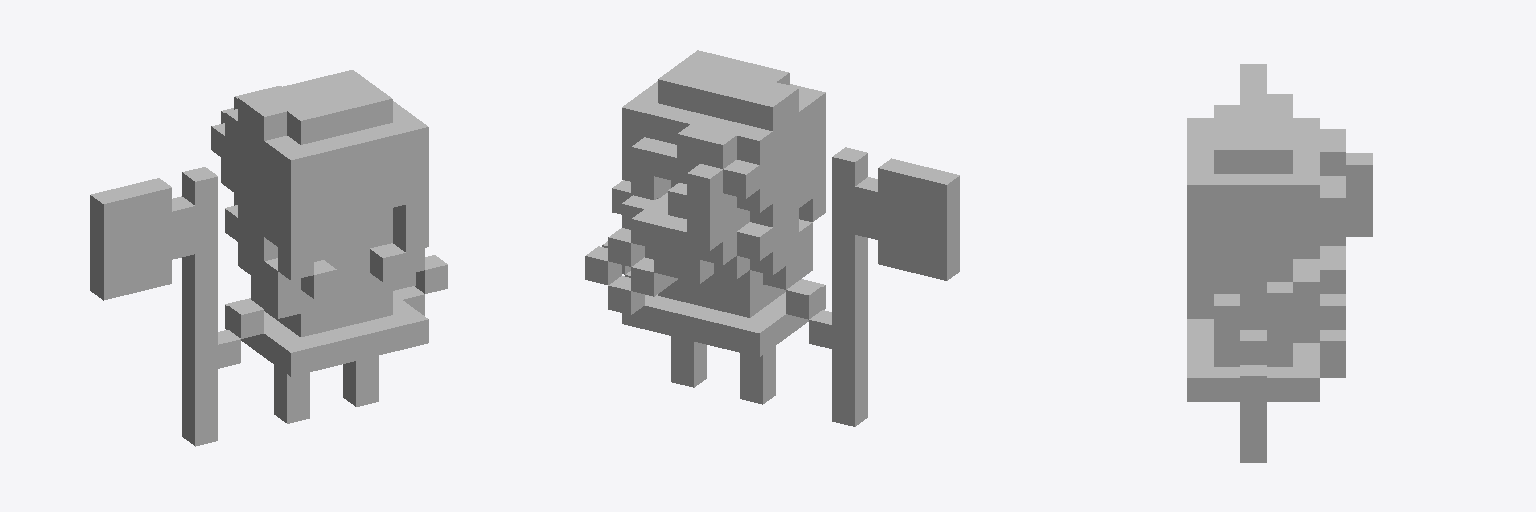
Rendered from chr_knight.obj.
3 renders of one model, left to right at view 1: azimuth 30°, elevation 25°; view 2: azimuth 150°, elevation 25°; view 3: azimuth 270°, elevation 25°, orthographic.
Visible parts, largest first — view 1: object 1; view 2: object 1; view 3: object 1.
Boxes of the visible parts, box(x1,y1,x2,y2) form: object 1: box(90, 70, 447, 446); object 1: box(585, 50, 959, 426); object 1: box(1187, 64, 1372, 462).
Size of the model in its own units: 1.5 by 1.3 by 0.7.